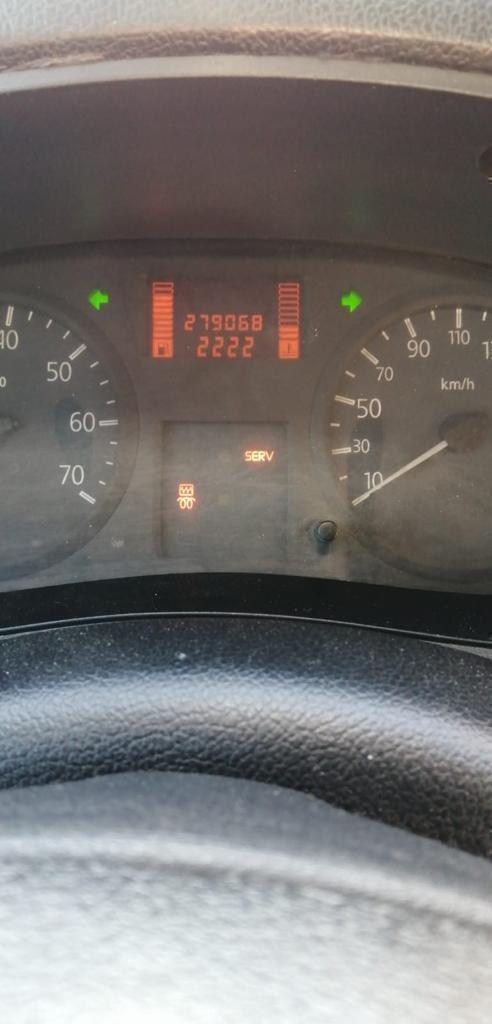0: (224, 314, 236, 330)
2: (195, 335, 209, 357), (211, 335, 224, 357), (226, 336, 239, 357), (242, 336, 254, 357), (183, 313, 196, 330)
6: (238, 314, 248, 331)
7: (199, 314, 208, 330)
8: (251, 314, 262, 331)
9: (211, 314, 222, 331)
odometer: (145, 274, 305, 362)
